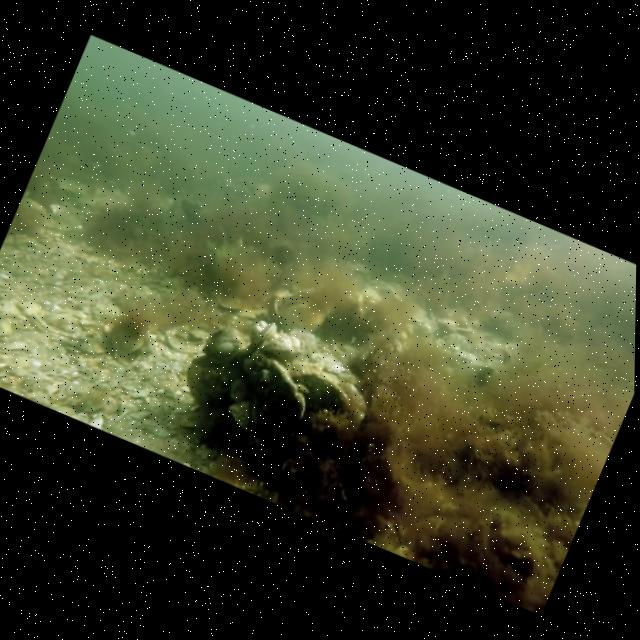Oyster-Closed: (287, 359, 353, 417), (265, 354, 311, 425), (276, 296, 324, 333), (261, 329, 311, 364), (232, 321, 278, 359)
Oyster-Indeterminate: (220, 401, 254, 440)
